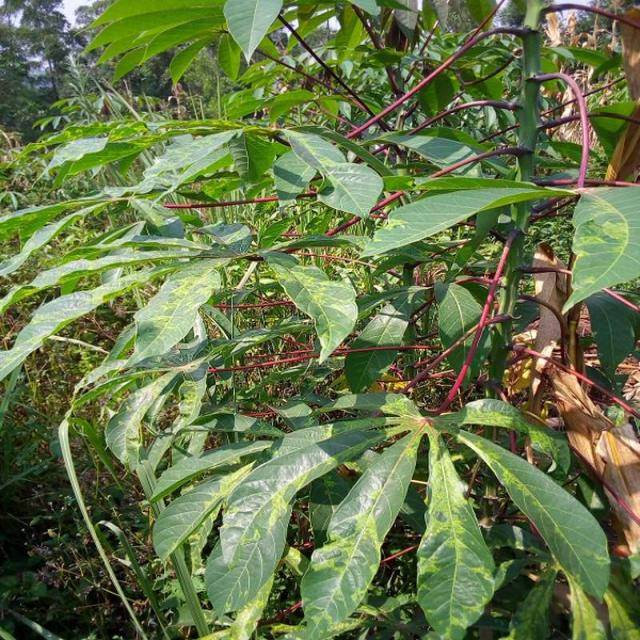cassava leaf: (1, 1, 638, 638), (204, 418, 386, 620), (448, 423, 611, 604), (415, 425, 495, 638), (560, 182, 638, 315)
